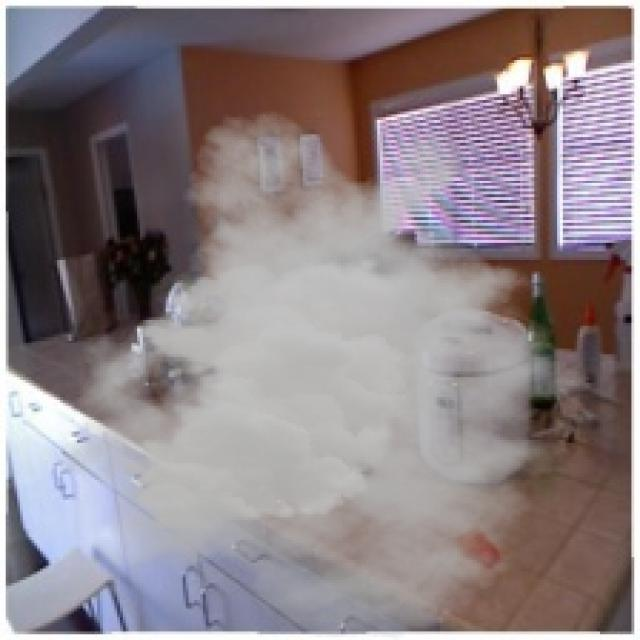smoke: (60, 109, 620, 637)
